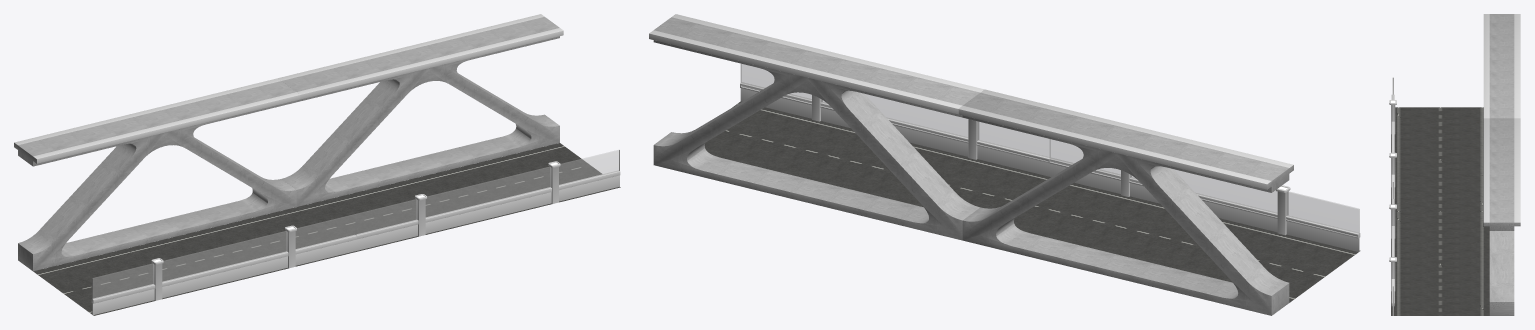
The model's file is modern__future_street.glb.
The picture shows the model from 3 angles, left to right: view 1: azimuth 30°, elevation 25°; view 2: azimuth 150°, elevation 25°; view 3: azimuth 270°, elevation 25°; orthographic projection. The views are drawn at different scales.
Visible parts, largest first — view 1: Cube_0; view 2: Cube_0; view 3: Cube_0.
Part boxes in pixels (box(x1,y1,x2,y2)): Cube_0: box(14, 14, 620, 315); Cube_0: box(649, 14, 1360, 315); Cube_0: box(1389, 14, 1520, 315).
Bounding box in the file's own units: 50.26 × 10.49 × 13.35.
6 materials, 2 textured.
